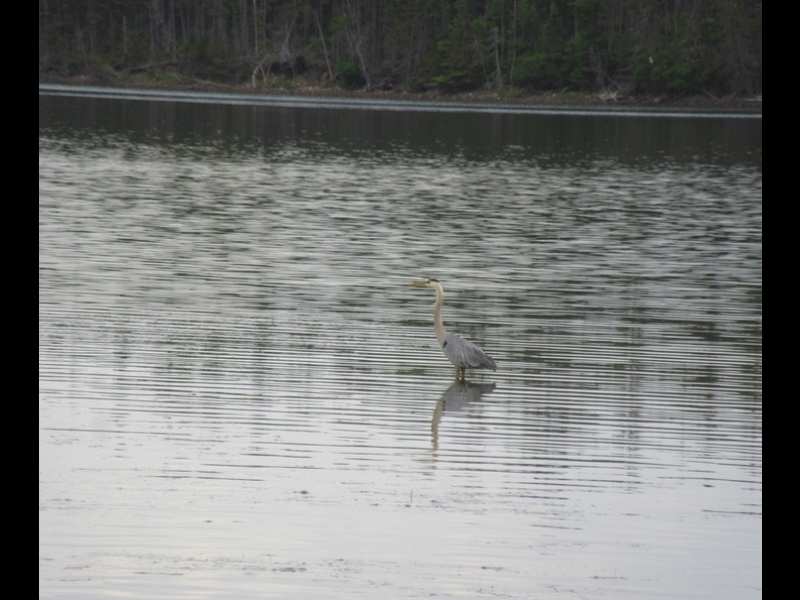heron: (404, 273, 497, 387)
